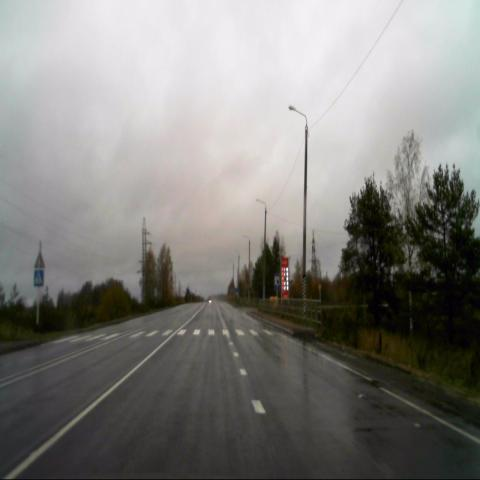5_19_1: (34, 267, 44, 286)
7_3: (273, 272, 281, 287)
